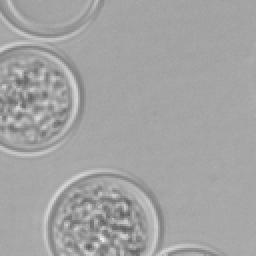picoshell: (42, 168, 162, 254), (0, 42, 82, 156), (156, 244, 224, 254)
